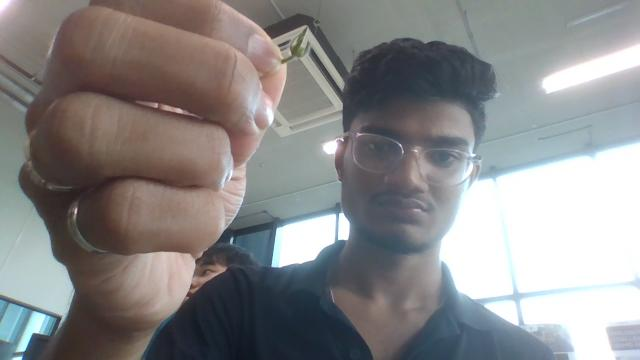Fruit Bud: (289, 28, 309, 60)
